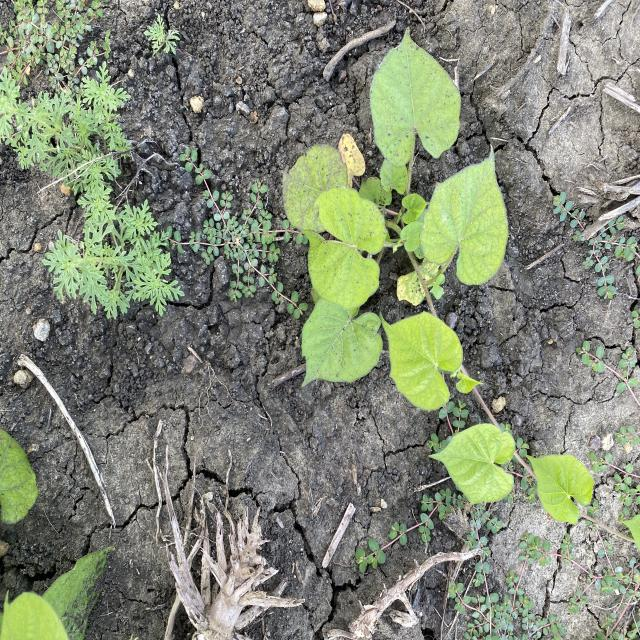MorningGlory: (282, 24, 596, 528)
Ragweed: (0, 61, 187, 320), (140, 14, 182, 63)
SpottedSpurge: (353, 313, 639, 640), (160, 145, 310, 320), (0, 0, 113, 109), (550, 189, 638, 302)
